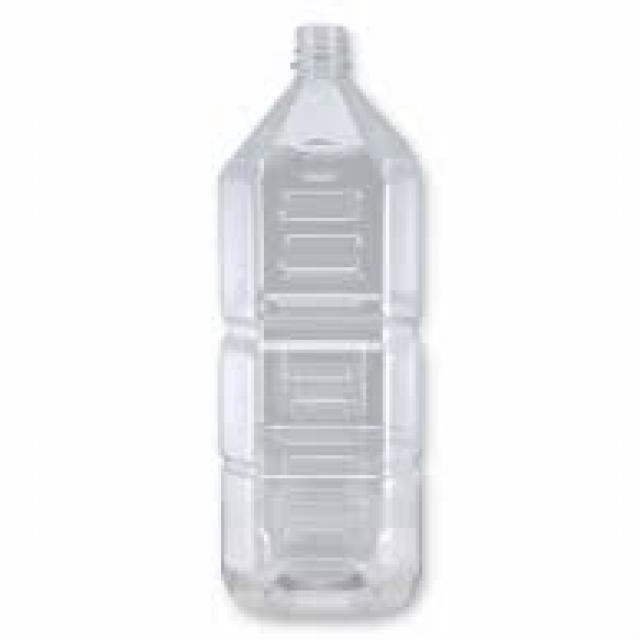Plastic: (218, 21, 430, 620)
